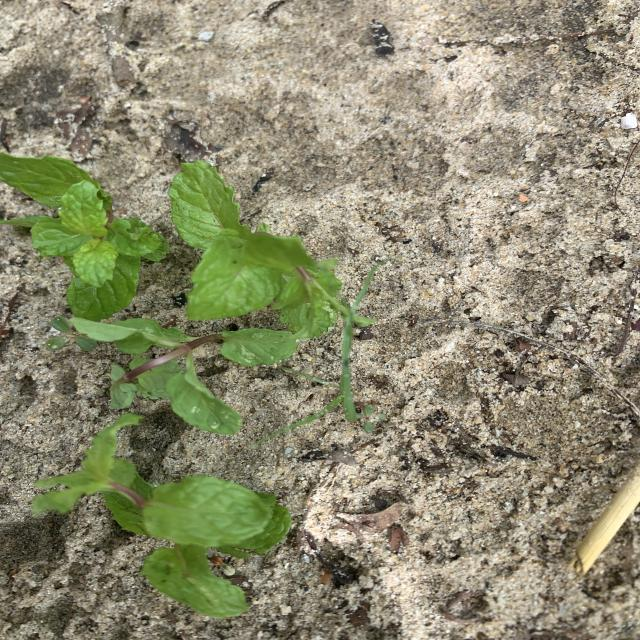crop: (32, 413, 291, 618), (169, 161, 341, 337), (0, 153, 169, 320), (69, 318, 296, 434)
weed: (257, 261, 384, 444), (46, 317, 98, 351), (363, 405, 387, 433)
